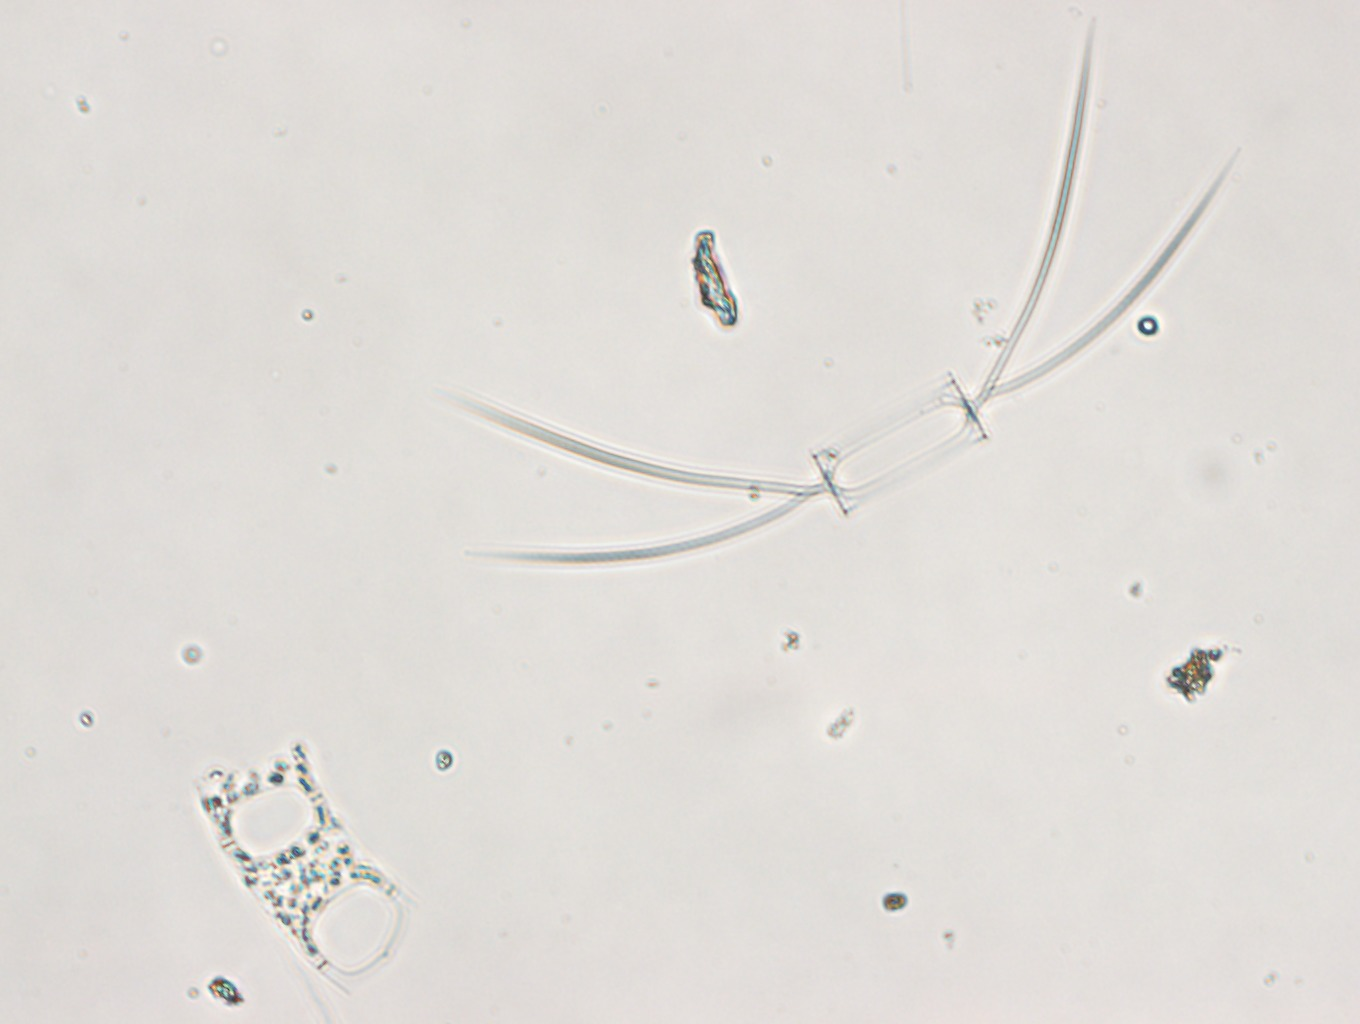chaetoceros: (433, 11, 1242, 565)
eucampia: (191, 736, 413, 1002)
